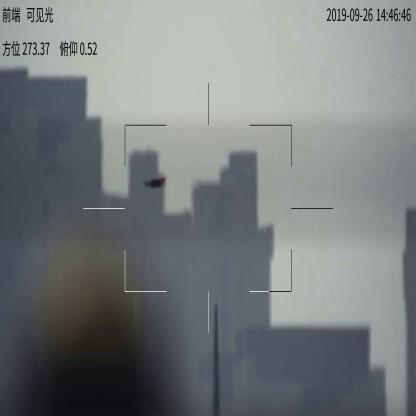uav: (142, 176, 170, 191)
